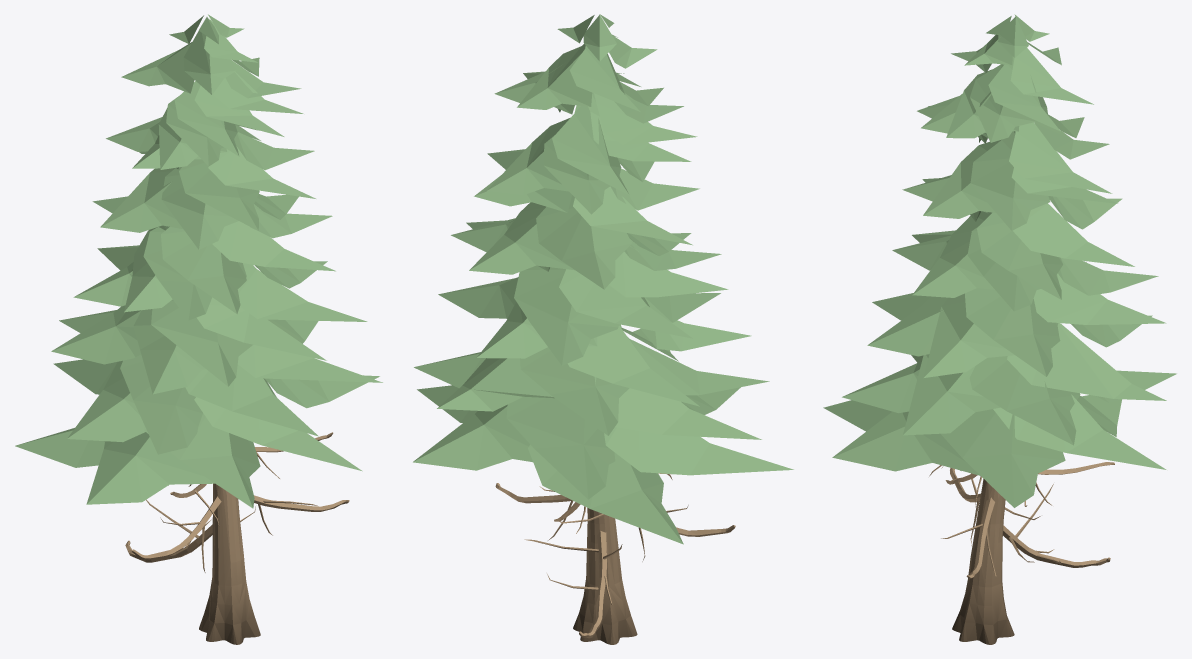
The model's file is m_pine2.glb.
The picture shows the model from 3 angles, left to right: view 1: azimuth 30°, elevation 25°; view 2: azimuth 150°, elevation 25°; view 3: azimuth 270°, elevation 25°; orthographic projection. The views are drawn at different scales.
Parts seen in each view (by area): view 1: Pine_4; view 2: Pine_4; view 3: Pine_4.
Part boxes in pixels (bbox=[...]): Pine_4: bbox=[15, 14, 382, 644]; Pine_4: bbox=[413, 14, 793, 644]; Pine_4: bbox=[823, 14, 1176, 644].
Bounding box in the file's own units: 5.8 × 10.24 × 5.37.
